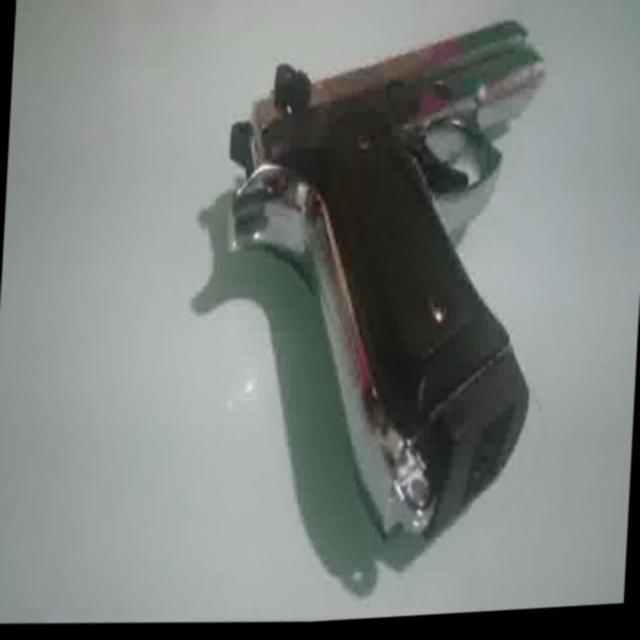weapon: (177, 6, 551, 565)
